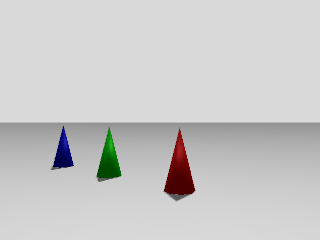blue: (52, 126, 75, 169)
green: (97, 124, 123, 180)
red: (165, 128, 196, 195)
